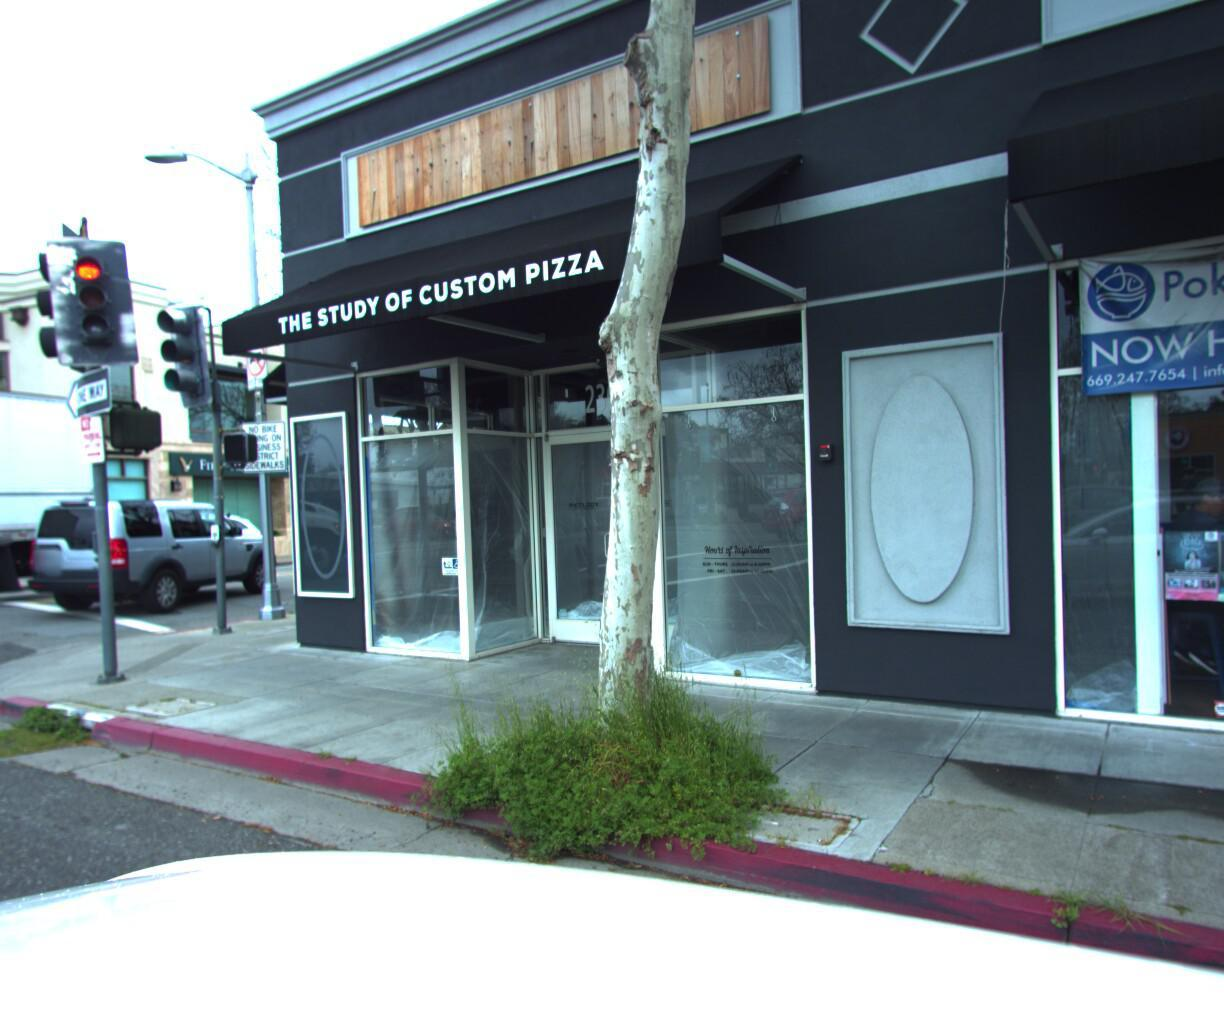car: (20, 491, 284, 622), (72, 518, 268, 591)
truck: (0, 228, 134, 752)
